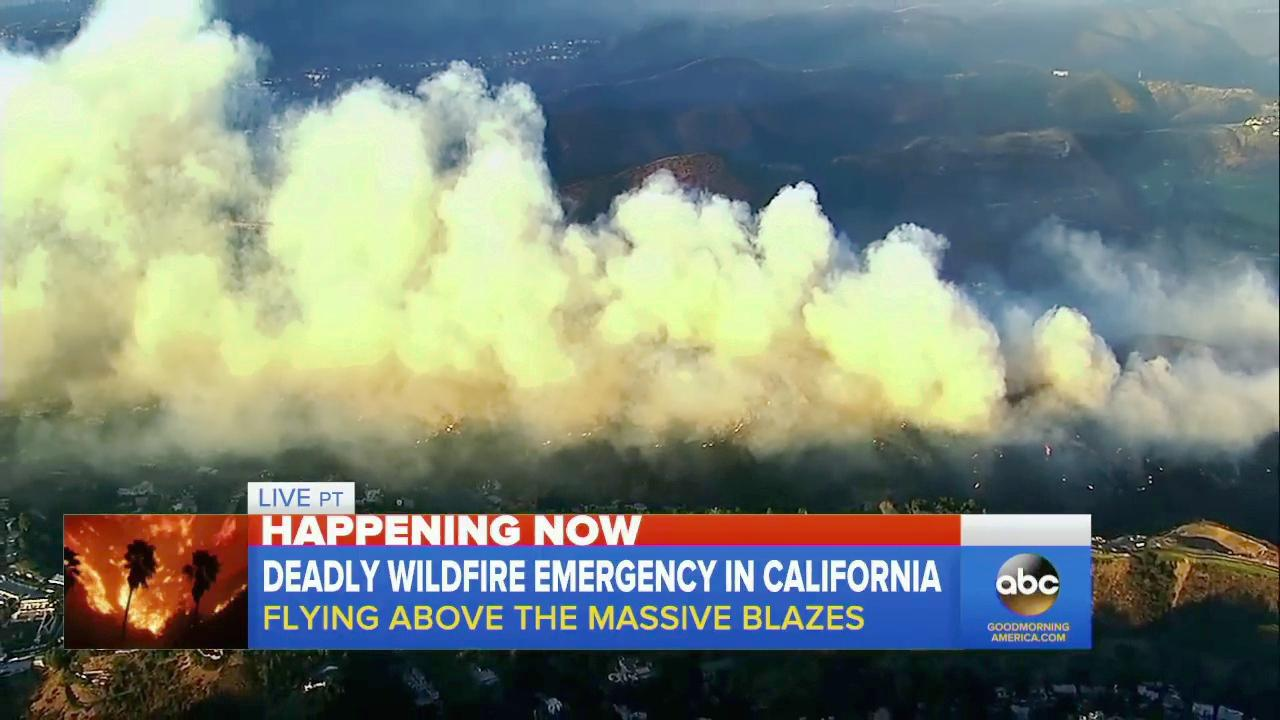smoke: (0, 2, 1278, 475), (271, 60, 802, 468), (810, 186, 1280, 465), (0, 0, 254, 347)
